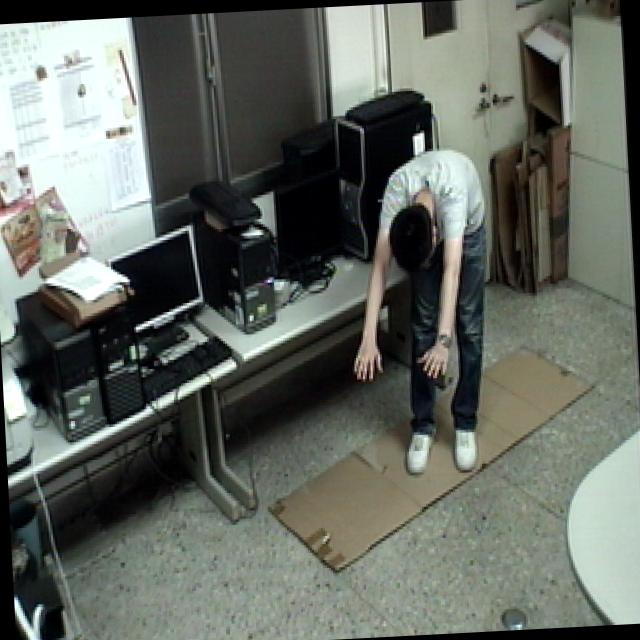bend: (342, 142, 506, 488)
